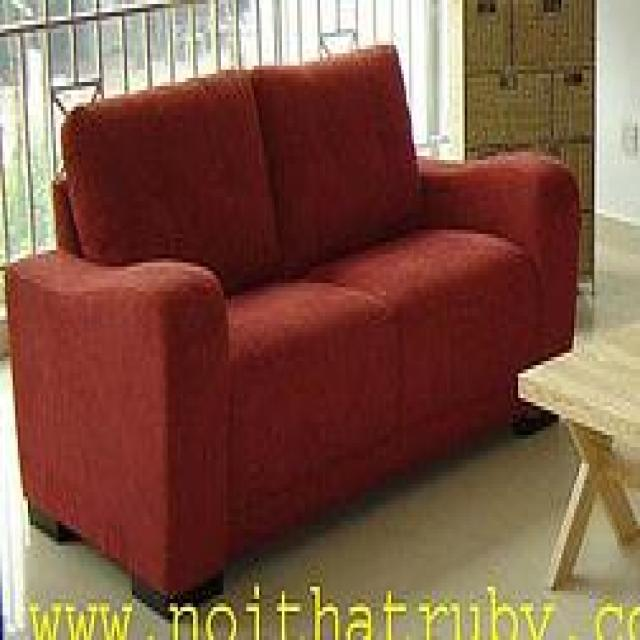sofa: (5, 37, 582, 624)
